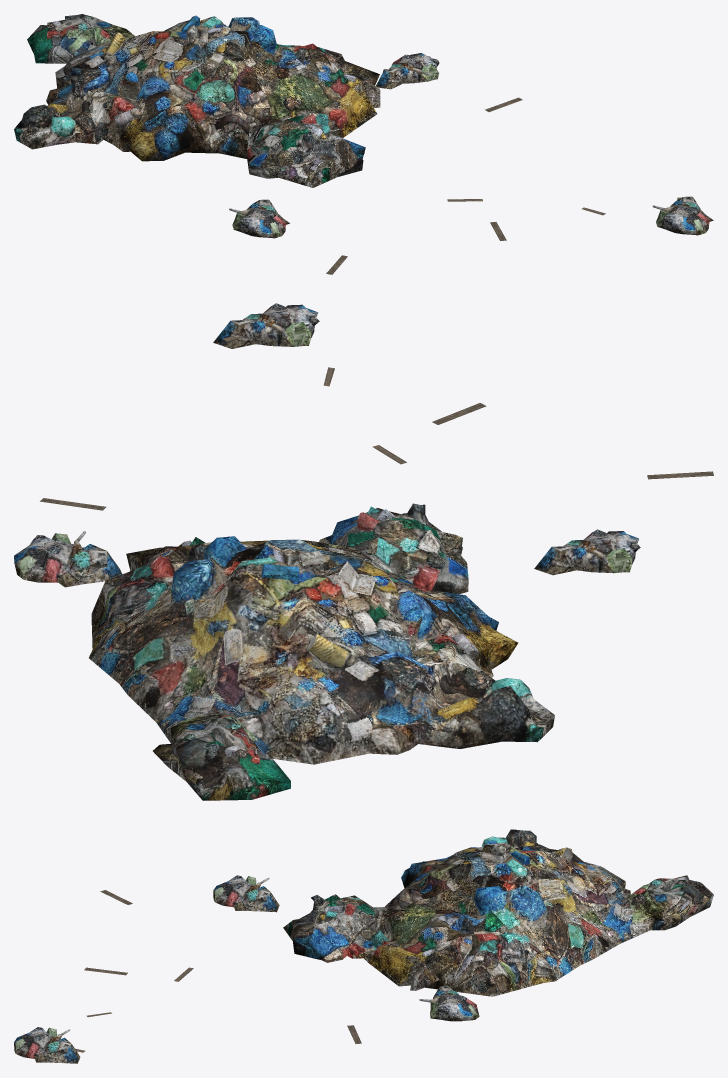
The model's file is sm39_200_watergarbage01a.fbx.
3 renders of one model, top to bottom at view 1: azimuth 30°, elevation 25°; view 2: azimuth 150°, elevation 25°; view 3: azimuth 270°, elevation 25°, orthographic. The views are drawn at different scales.
Visible parts, largest first — view 1: LOD_1_Group_0_Sub_2__sm20_004_Garbage01A_A_Mat, LOD_1_Group_0_Sub_1__sm20_023_SewageGroundGarbage03A_A__121c; view 2: LOD_1_Group_0_Sub_2__sm20_004_Garbage01A_A_Mat, LOD_1_Group_0_Sub_1__sm20_023_SewageGroundGarbage03A_A__121c; view 3: LOD_1_Group_0_Sub_2__sm20_004_Garbage01A_A_Mat, LOD_1_Group_0_Sub_1__sm20_023_SewageGroundGarbage03A_A__121c.
Boxes of the visible parts, x1,y1,x2,y2 form: LOD_1_Group_0_Sub_2__sm20_004_Garbage01A_A_Mat: (14,14,713,238); LOD_1_Group_0_Sub_1__sm20_023_SewageGroundGarbage03A_A__121c: (326,97,680,274); LOD_1_Group_0_Sub_2__sm20_004_Garbage01A_A_Mat: (14,303,640,800); LOD_1_Group_0_Sub_1__sm20_023_SewageGroundGarbage03A_A__121c: (40,336,713,510); LOD_1_Group_0_Sub_2__sm20_004_Garbage01A_A_Mat: (14,829,713,1063); LOD_1_Group_0_Sub_1__sm20_023_SewageGroundGarbage03A_A__121c: (75,890,361,1052).
Size of the model in its own units: 7.31 by 1.35 by 10.16.
